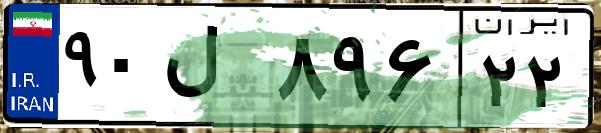0: (110, 28, 158, 98)
2: (475, 38, 525, 113), (525, 38, 570, 115)
6: (385, 28, 445, 110)
8: (270, 28, 330, 110)
9: (330, 28, 385, 110), (57, 26, 110, 100)
ل: (158, 20, 270, 120)
